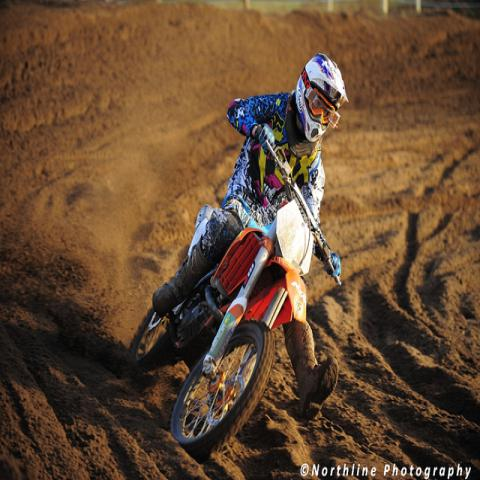motorcycle: (128, 144, 337, 455)
